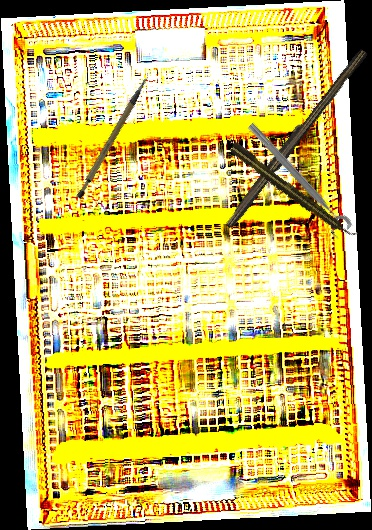Fixation Ring: (238, 119, 355, 241)
Handpiece: (227, 140, 359, 244)
Scalpel Handle: (221, 44, 369, 232), (60, 75, 168, 202)
